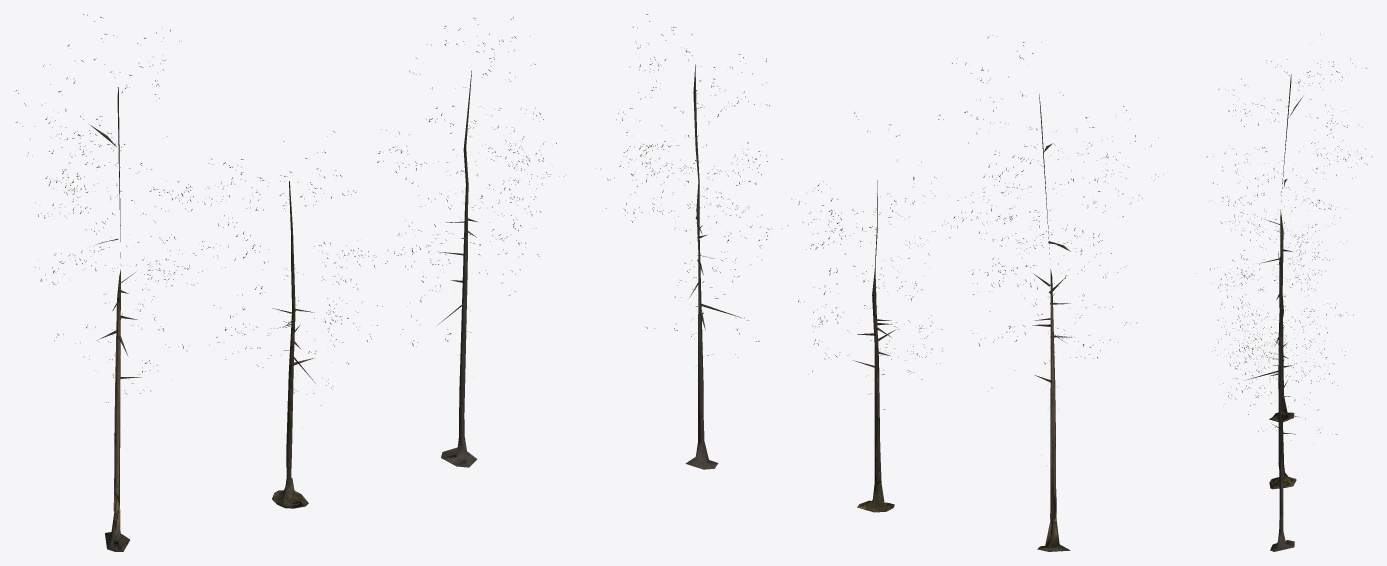
The model's file is pine_lo.glb.
3 views of the same model, side by side, from view 1: azimuth 30°, elevation 25°; view 2: azimuth 150°, elevation 25°; view 3: azimuth 270°, elevation 25° (orthographic). The views are drawn at different scales.
Parts seen in each view (by area): view 1: pine_tree_01_a_LOD0, pine_tree_01_c_LOD0, pine_tree_01_b_LOD0; view 2: pine_tree_01_a_LOD0, pine_tree_01_c_LOD0, pine_tree_01_b_LOD0; view 3: pine_tree_01_a_LOD0, pine_tree_01_c_LOD0, pine_tree_01_b_LOD0.
Boxes of the visible parts, x1,y1,x2,y2 form: pine_tree_01_a_LOD0: (14,14,563,551); pine_tree_01_c_LOD0: (441,70,477,467); pine_tree_01_b_LOD0: (272,181,308,508); pine_tree_01_a_LOD0: (596,14,1163,551); pine_tree_01_c_LOD0: (685,64,718,469); pine_tree_01_b_LOD0: (857,180,894,512); pine_tree_01_a_LOD0: (1196,34,1372,477); pine_tree_01_c_LOD0: (1270,251,1294,551); pine_tree_01_b_LOD0: (1269,236,1296,489).
Size of the model in its own units: 21.17 by 20.17 by 8.02.
Materials: 6 (6 with a texture image).
